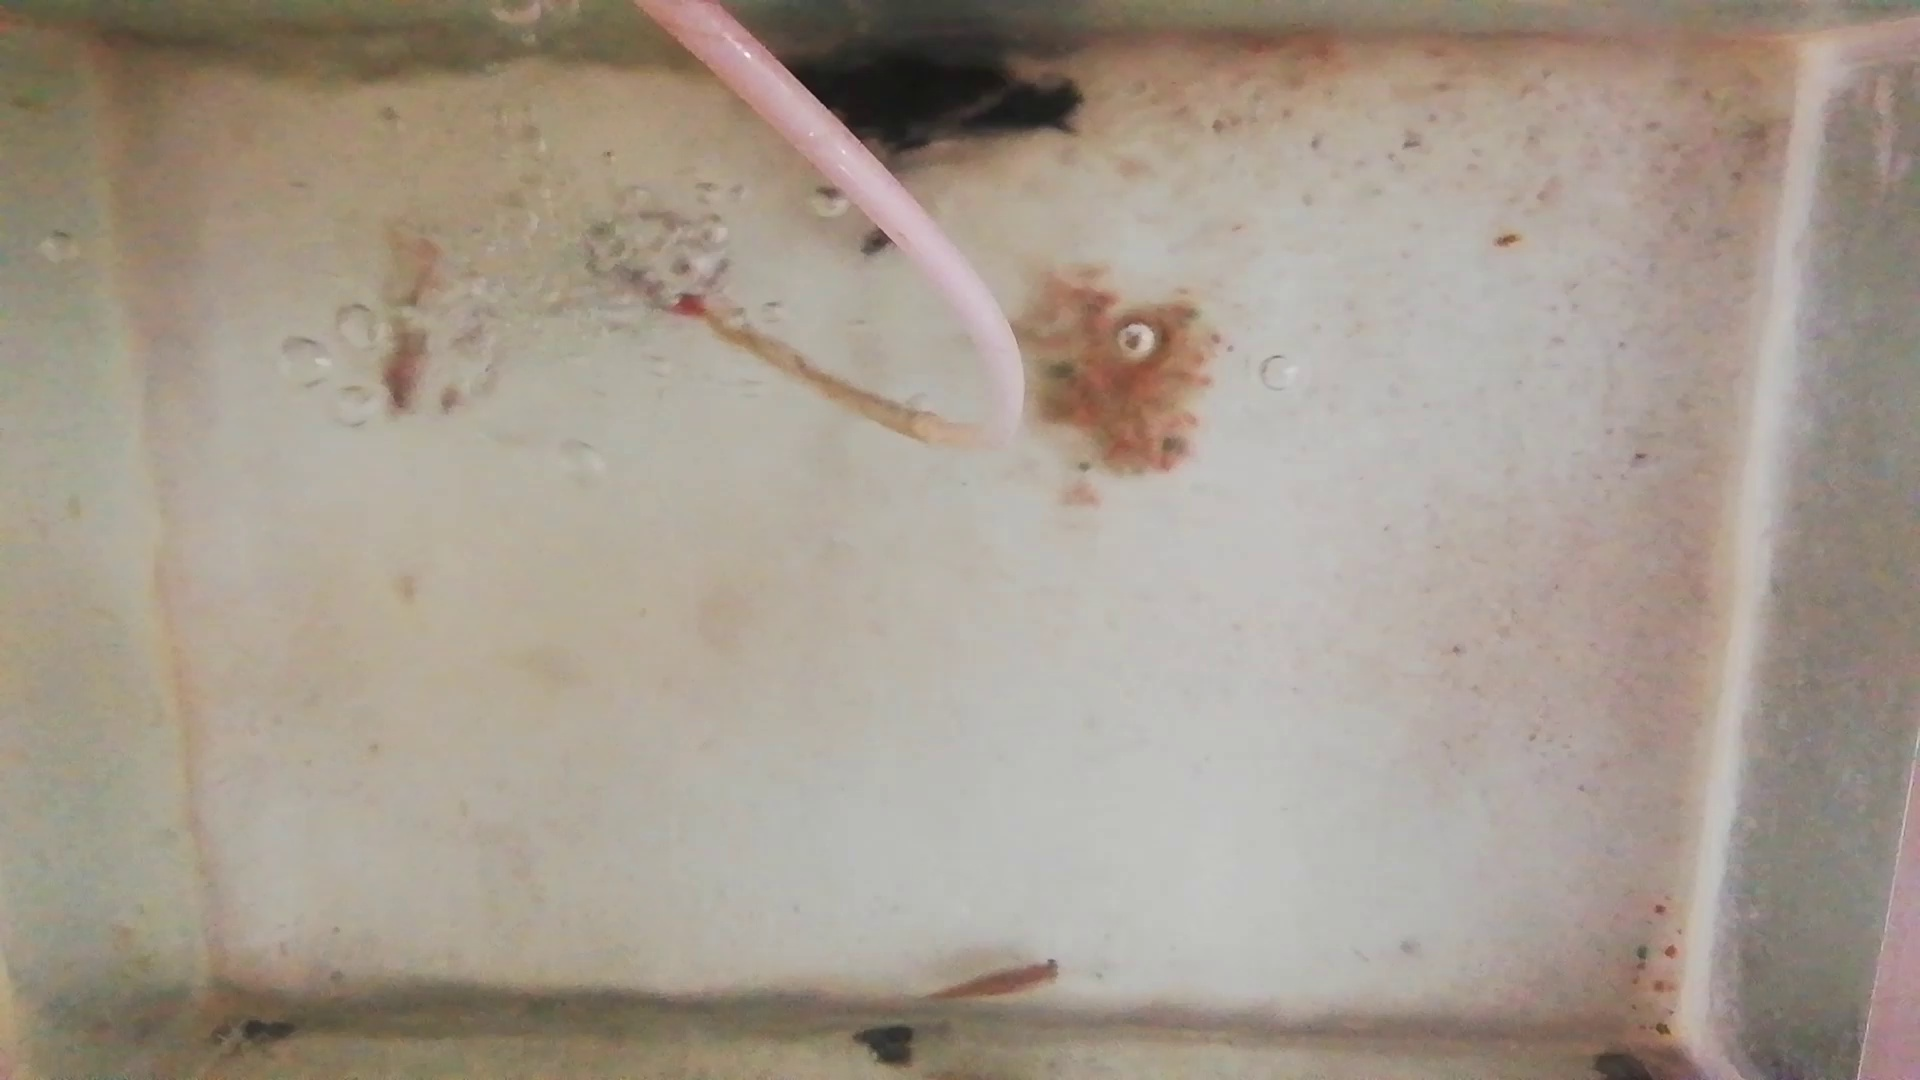fish: (378, 227, 436, 410), (930, 957, 1065, 1015)
